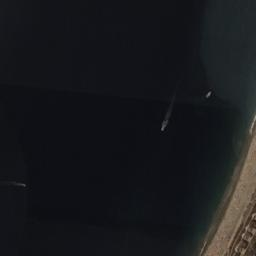boat: (206, 91, 212, 97), (161, 128, 163, 131), (24, 184, 26, 186)
